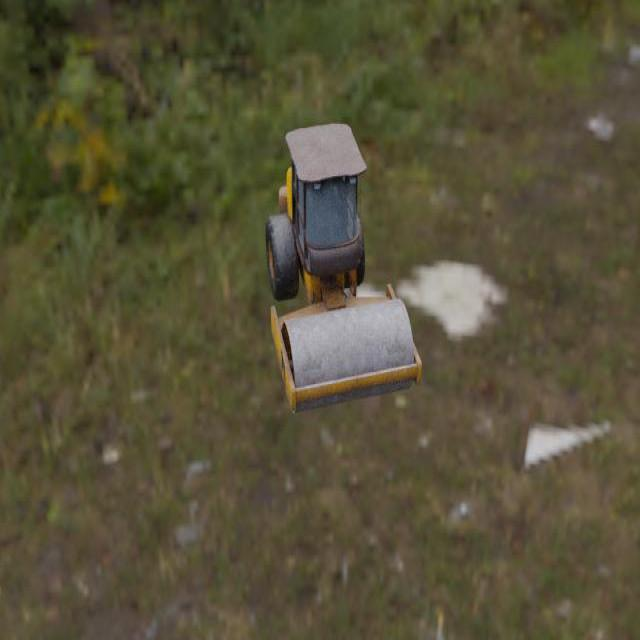Roller: (264, 123, 422, 413)
